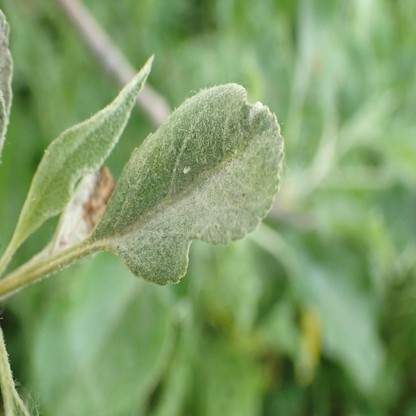powder: (92, 83, 285, 285), (44, 55, 154, 220)
